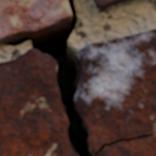brick: (0, 0, 70, 43), (94, 0, 126, 7)
broken_brick: (75, 28, 155, 155), (0, 48, 74, 155)
crack: (2, 0, 154, 155)
